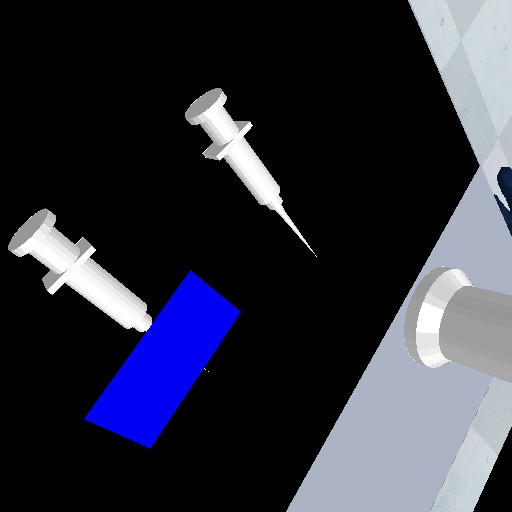jeringuilla: (180, 83, 321, 263), (6, 204, 154, 334)
